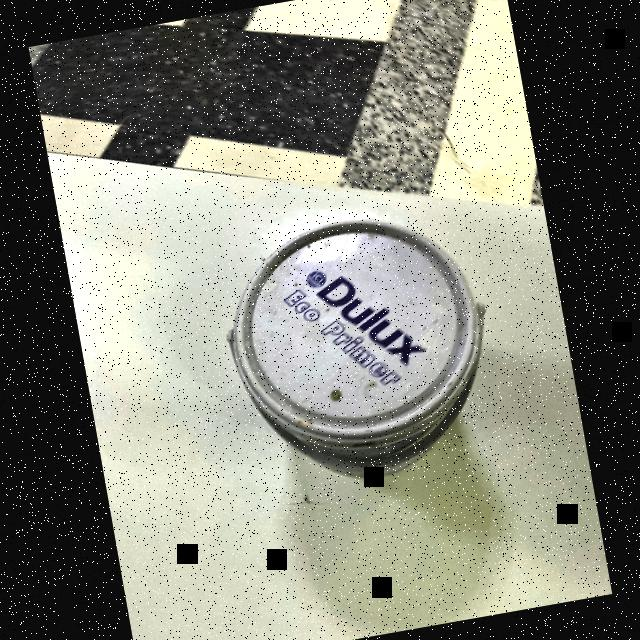paint_bucket: (205, 188, 512, 503)
